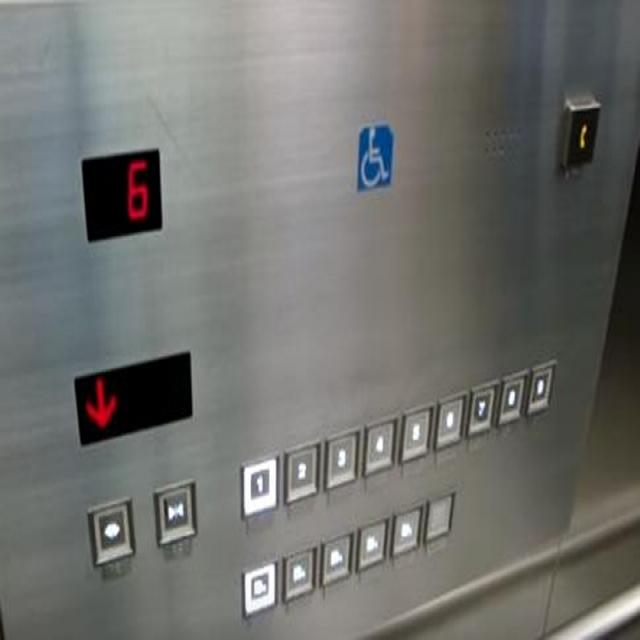1: (239, 450, 279, 518)
2: (284, 437, 321, 504)
3: (322, 425, 362, 491)
4: (362, 412, 400, 477)
5: (397, 400, 436, 467)
6: (433, 388, 470, 452)
7: (466, 377, 500, 439)
8: (496, 368, 531, 425)
9: (526, 360, 557, 415)
CH: (356, 123, 394, 188)
call: (559, 93, 602, 171)
close: (152, 478, 197, 546)
led: (73, 344, 194, 451), (76, 143, 164, 244)
open: (86, 497, 137, 568)
unknown: (240, 557, 278, 616), (389, 501, 424, 559), (282, 544, 316, 603), (321, 529, 354, 588), (354, 517, 388, 572), (424, 491, 454, 541)
